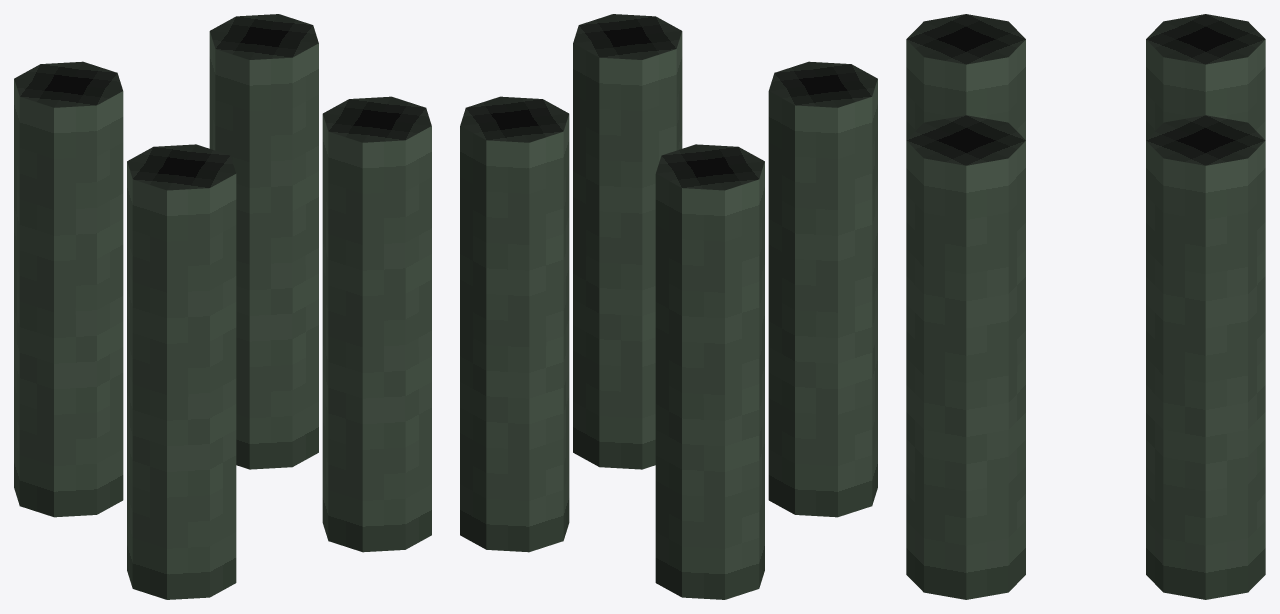
The model's file is pipe_quad_green.obj.
The picture shows the model from 3 angles, left to right: view 1: azimuth 30°, elevation 25°; view 2: azimuth 150°, elevation 25°; view 3: azimuth 270°, elevation 25°; orthographic projection. The views are drawn at different scales.
Visible parts, largest first — view 1: Side, Top; view 2: Side, Top; view 3: Side, Top.
Part boxes in pixels (x1,y1,x2,y2): Side: (14,31,431,599); Top: (14,14,431,190); Side: (460,31,877,599); Top: (460,14,877,190); Side: (906,39,1265,599); Top: (906,14,1265,165).
Size of the model in its own units: 0.75 by 1 by 0.75.
